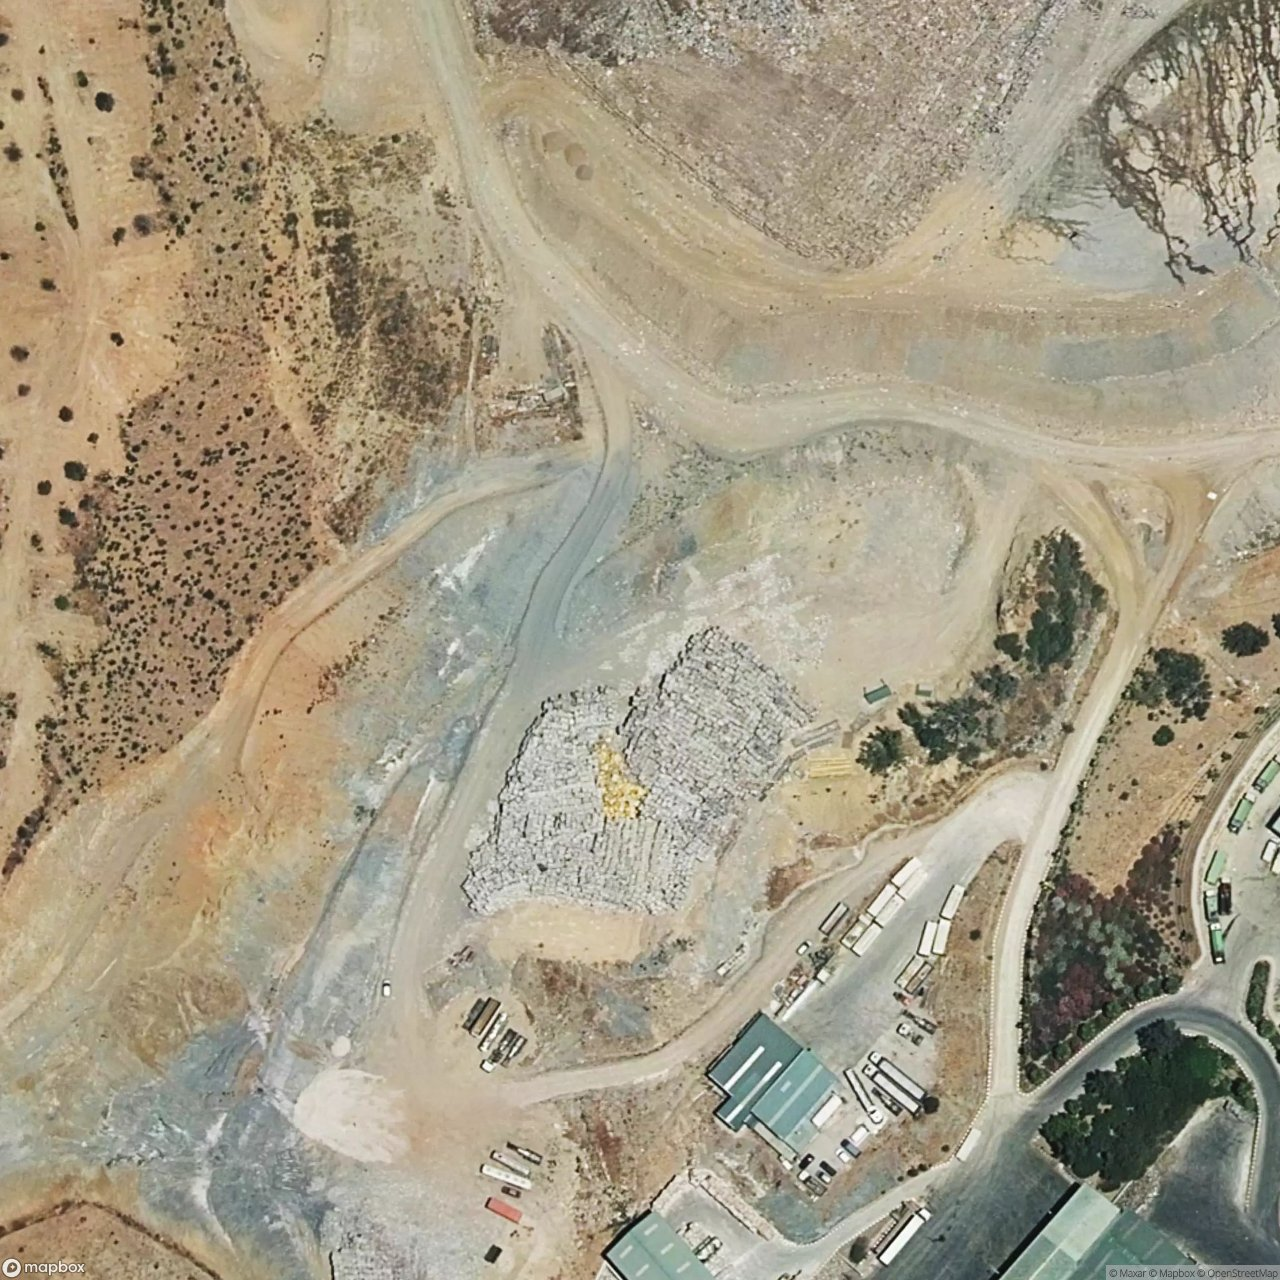dump_site: (448, 585, 835, 941)
